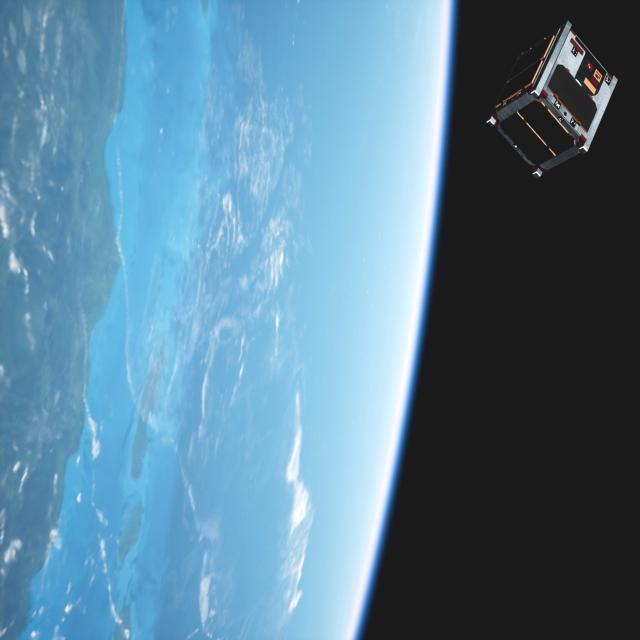medium_debris: (489, 20, 626, 182)
